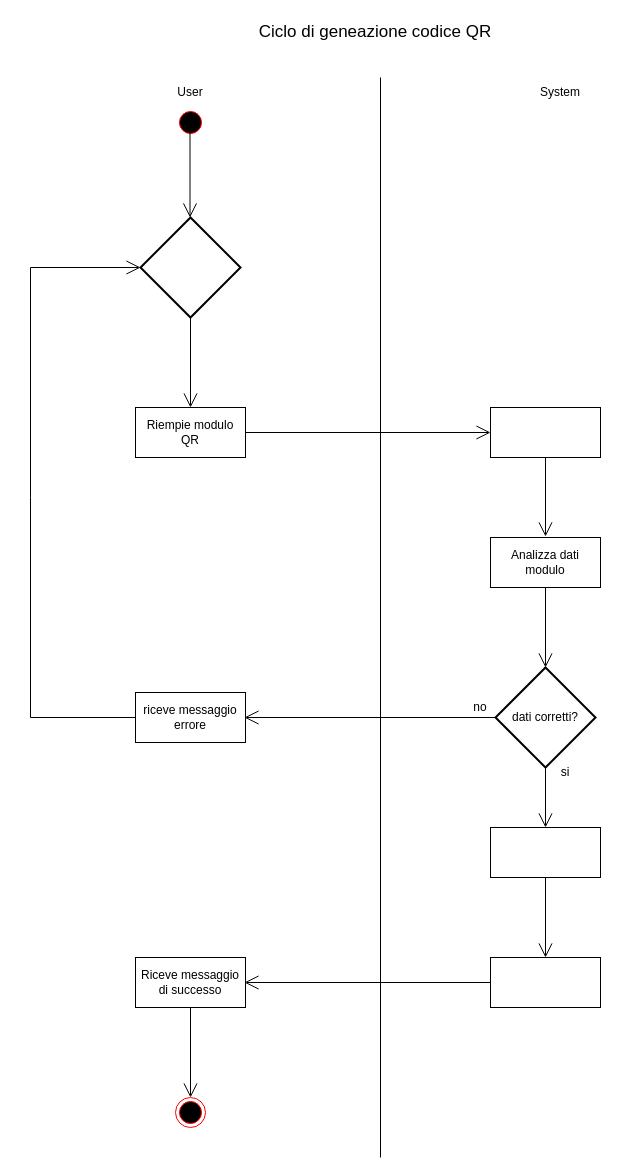
This 618x1176 diagram has some shape labels left out. Each missing label, with the centre of its shape:
"genera QR" goes at [545,982].
"Riceve modulo compilato" goes at [545,432].
"salva dati nel DB" goes at [545,852].
